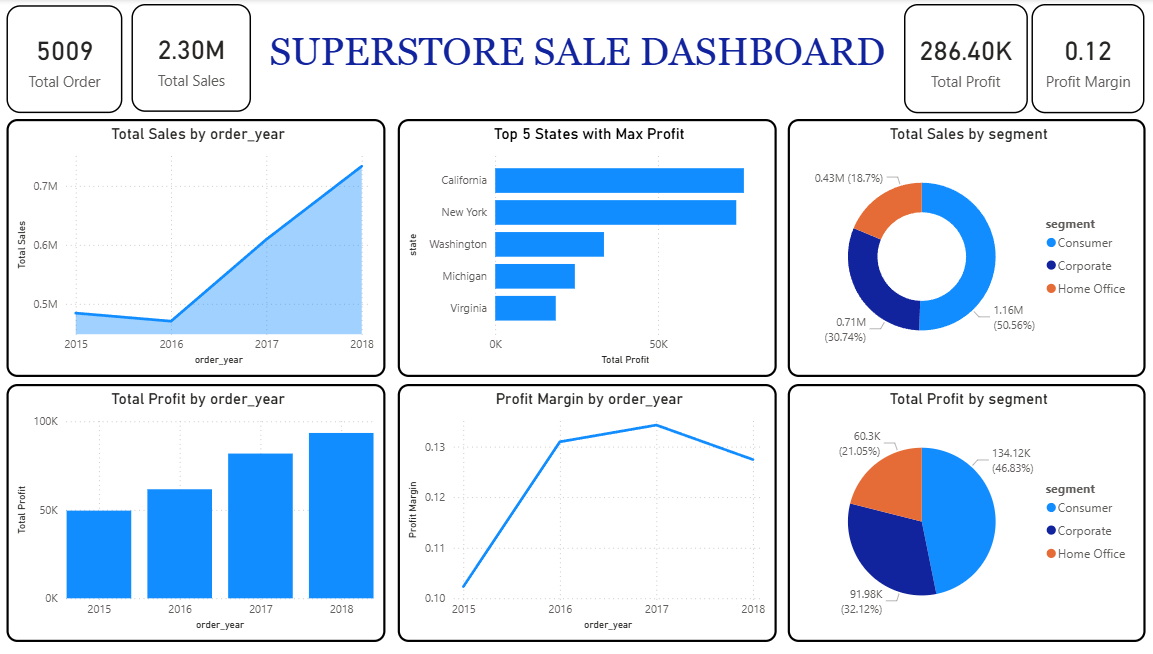

Layout of this report page (visuals, bound fields, positions):
{"tool":"powerbi","page":{"name":"Page 1","canvas":[1280,720],"ordinal":0},"visuals":[{"type":"card","fields":{"Values":["superstore_clean.Total Order"]},"box":[14.3,7.1,127.1,118.6],"z":0},{"type":"card","fields":{"Values":["superstore_clean.Total Sales"]},"box":[151.4,5.7,131.4,118.6],"z":1000},{"type":"card","fields":{"Values":["superstore_clean.Profit Margin"]},"box":[1138.6,5.7,124.3,120],"z":2000},{"type":"card","fields":{"Values":["superstore_clean.Total Profit"]},"box":[998.6,5.7,135.7,120],"z":3000},{"type":"columnChart","fields":{"Category":["superstore_clean.order_year"],"Y":["superstore_clean.Total Profit"]},"box":[14.3,422.9,415.7,282.9],"z":4000},{"type":"lineChart","fields":{"Category":["superstore_clean.order_year"],"Y":["superstore_clean.Profit Margin"]},"box":[442.9,422.9,415.7,282.9],"z":5000},{"type":"pieChart","fields":{"Y":["superstore_clean.Total Profit"],"Category":["superstore_clean.segment"]},"box":[871.4,422.9,392.9,282.9],"z":6000},{"type":"clusteredBarChart","title":"Top 5 States with Max Profit","fields":{"Category":["superstore_clean.state"],"Y":["superstore_clean.Total Profit"]},"box":[442.9,131.4,415.7,282.9],"z":7000},{"type":"areaChart","fields":{"Category":["superstore_clean.order_year"],"Y":["superstore_clean.Total Sales"]},"box":[14.3,131.4,415.7,282.9],"z":8000},{"type":"donutChart","fields":{"Y":["superstore_clean.Total Sales"],"Category":["superstore_clean.segment"]},"box":[871.4,131.4,392.9,282.9],"z":9000},{"type":"textbox","box":[291.4,28.6,698.6,95.7],"z":10000}]}

Visuals, with their boxes in screenshot pixels (x1, y1, x2, y2), scaled from the page's 1280x720 canvas onto the 1153x654 screenshot:
card - superstore_clean.Total Order: left=13, top=6, right=127, bottom=114
card - superstore_clean.Total Sales: left=136, top=5, right=255, bottom=113
card - superstore_clean.Profit Margin: left=1026, top=5, right=1138, bottom=114
card - superstore_clean.Total Profit: left=900, top=5, right=1022, bottom=114
columnChart - superstore_clean.order_year x superstore_clean.Total Profit: left=13, top=384, right=387, bottom=641
lineChart - superstore_clean.order_year x superstore_clean.Profit Margin: left=399, top=384, right=773, bottom=641
pieChart - superstore_clean.Total Profit x superstore_clean.segment: left=785, top=384, right=1139, bottom=641
"Top 5 States with Max Profit" clusteredBarChart: left=399, top=119, right=773, bottom=376
areaChart - superstore_clean.order_year x superstore_clean.Total Sales: left=13, top=119, right=387, bottom=376
donutChart - superstore_clean.Total Sales x superstore_clean.segment: left=785, top=119, right=1139, bottom=376
textbox: left=262, top=26, right=892, bottom=113
